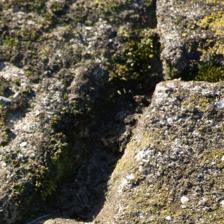Crack: (6, 35, 160, 189)
